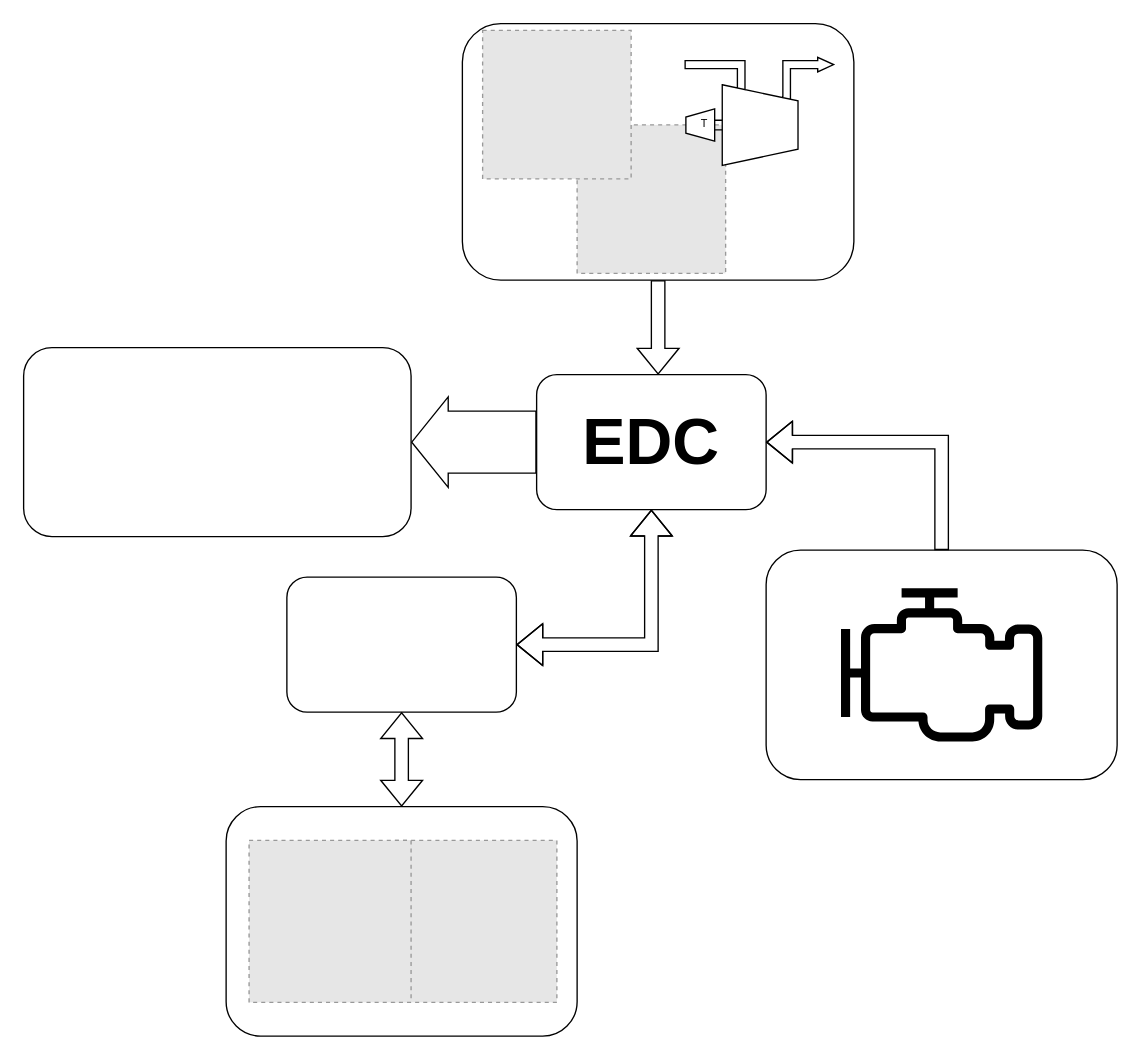
The diagram is 1141 pixels wide and 1060 high, and some of its shapes have lost their labels. Grey dashed boxes stand in for pictures. Here are the shapes that lost their labels. From the top down, the centre of each, then its label:
At pixel 216 441: "Electronic load".
At pixel 401 644: "BMS".
